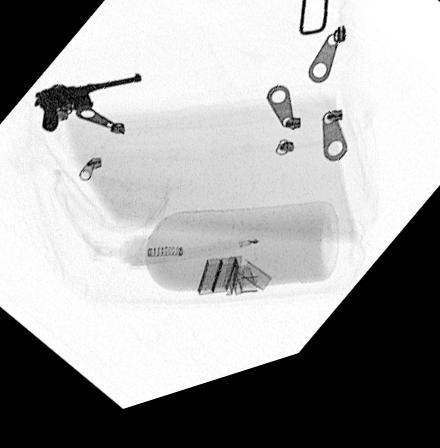Gun: (32, 81, 141, 136)
